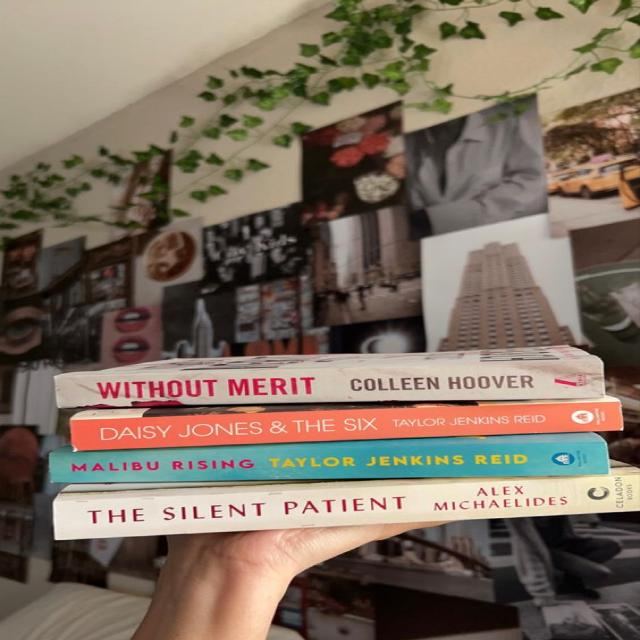book: (53, 463, 639, 540), (70, 397, 622, 450), (48, 433, 609, 483), (55, 359, 602, 406)
